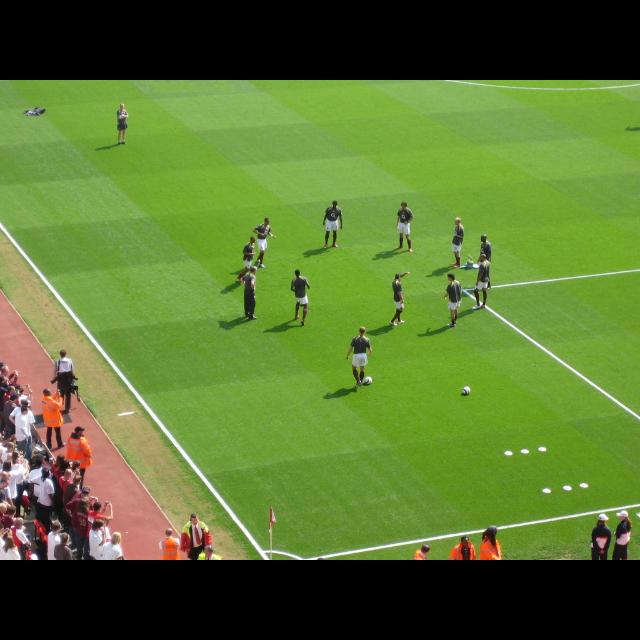Football: (362, 372, 372, 383), (462, 384, 471, 394)
